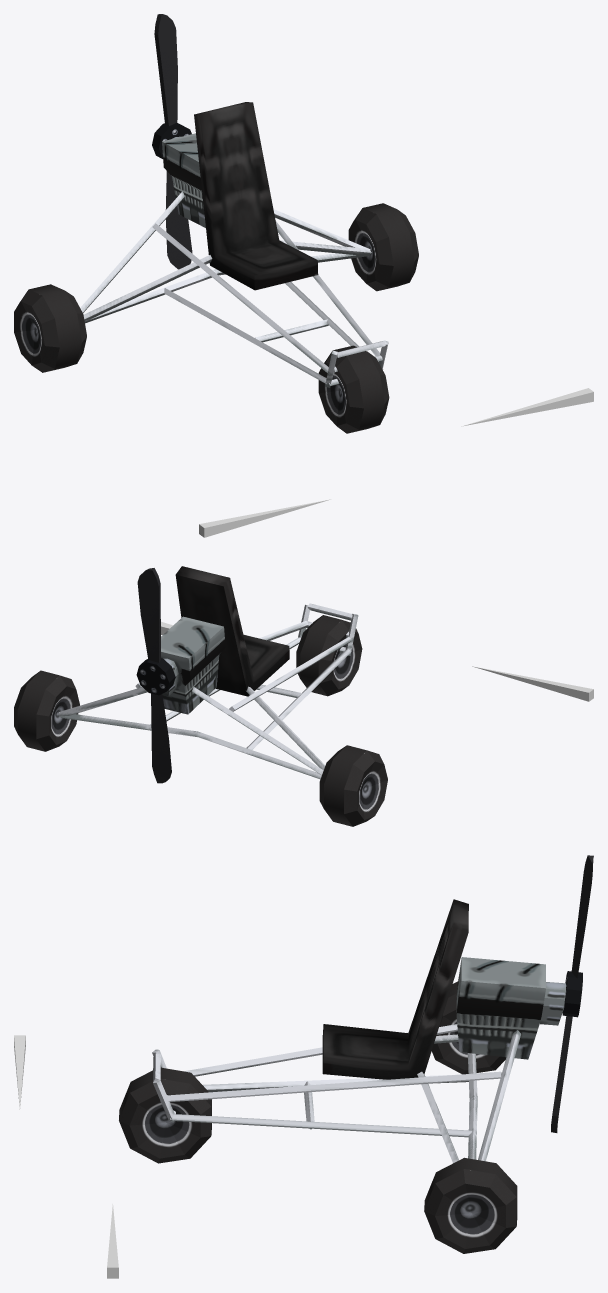
The model's file is Paramotor.FBX.
3 views of the same model, one above another, from view 1: azimuth 30°, elevation 25°; view 2: azimuth 150°, elevation 25°; view 3: azimuth 270°, elevation 25° (orthographic). The views are drawn at different scales.
Visible parts, largest first — view 1: ParamotorTrike, WheelR, WheelL, WheelF, Prop, EnterR, EnterL; view 2: ParamotorTrike, WheelR, Prop, WheelL, WheelF, EnterR; view 3: ParamotorTrike, WheelL, WheelF, Prop, WheelR, EnterL, EnterR.
Part boxes in pixels (left/top/right/bottom): ParamotorTrike: left=80, top=102, right=388, bottom=387; WheelR: left=14, top=284, right=86, bottom=372; WheelL: left=348, top=203, right=418, bottom=291; WheelF: left=318, top=345, right=389, bottom=433; Prop: left=152, top=14, right=192, bottom=269; EnterR: left=199, top=499, right=330, bottom=537; EnterL: left=461, top=388, right=593, bottom=426; ParamotorTrike: left=58, top=566, right=358, bottom=779; WheelR: left=319, top=745, right=387, bottom=826; Prop: left=136, top=568, right=175, bottom=783; WheelL: left=14, top=670, right=79, bottom=751; WheelF: left=296, top=615, right=362, bottom=696; EnterR: left=472, top=666, right=593, bottom=701; ParamotorTrike: left=152, top=899, right=566, bottom=1163; WheelL: left=424, top=1157, right=517, bottom=1253; WheelF: left=119, top=1067, right=211, bottom=1163; Prop: left=551, top=855, right=593, bottom=1132; WheelR: left=432, top=981, right=506, bottom=1074; EnterL: left=107, top=1204, right=118, bottom=1278; EnterR: left=14, top=1035, right=25, bottom=1109.
Size of what is drawn, in the model's own units: 231 by 142 by 243.
